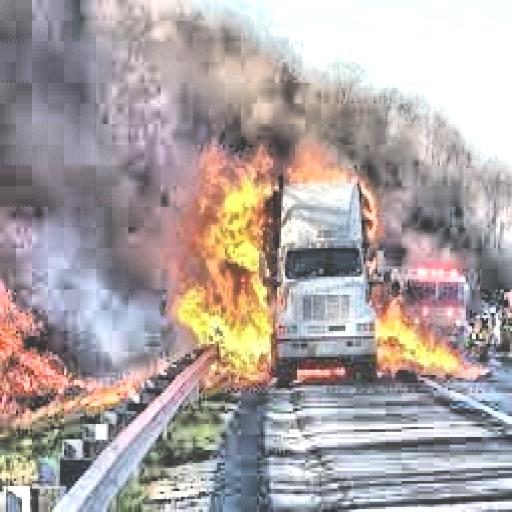fire: (171, 147, 289, 388), (2, 300, 143, 411), (361, 297, 500, 380), (283, 142, 360, 192)
